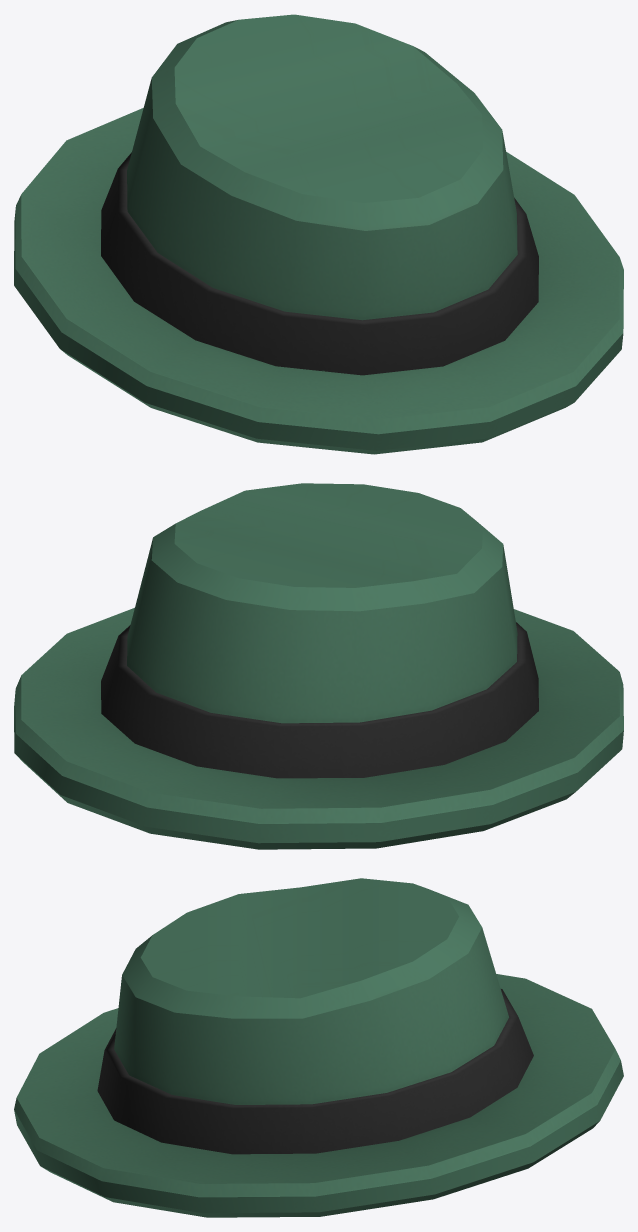
Rendered from ImposterSkin07Hat.fbx.
3 views of the same model, one above another, from view 1: azimuth 30°, elevation 25°; view 2: azimuth 150°, elevation 25°; view 3: azimuth 270°, elevation 25° (orthographic). The views are drawn at different scales.
Visible parts, largest first — view 1: ImposterSkin07Hat_geo; view 2: ImposterSkin07Hat_geo; view 3: ImposterSkin07Hat_geo.
Part boxes in pixels (x1,y1,x2,y2): ImposterSkin07Hat_geo: (14,14,623,454); ImposterSkin07Hat_geo: (14,483,623,849); ImposterSkin07Hat_geo: (14,878,623,1217).
Size of the model in its own units: 2.82 by 1.27 by 3.25.
1 material, 1 textured.
